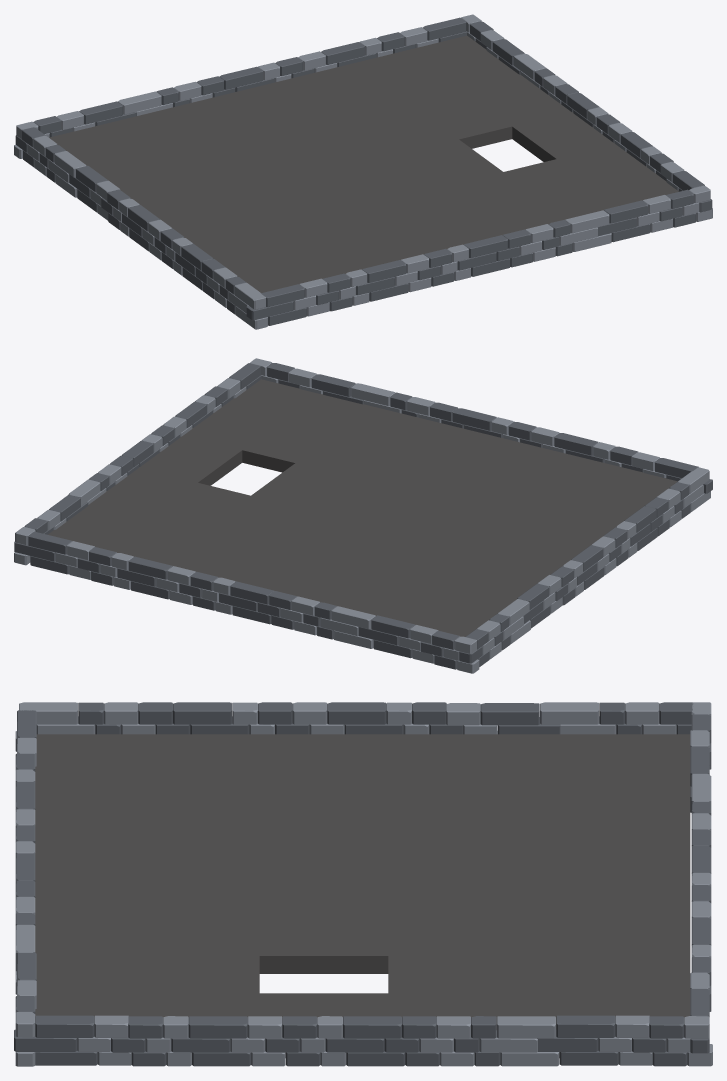
Rendered from L1Ground.fbx.
The picture shows the model from 3 angles, top to bottom: view 1: azimuth 30°, elevation 25°; view 2: azimuth 150°, elevation 25°; view 3: azimuth 270°, elevation 25°; orthographic projection. The views are drawn at different scales.
Visible parts, largest first — view 1: polySurface1107, polySurface1108; view 2: polySurface1107, polySurface1108; view 3: polySurface1107, polySurface1108.
Boxes of the visible parts, x1=… form: polySurface1107: x1=49, y1=35, x2=678, y2=292; polySurface1108: x1=14, y1=14, x2=712, y2=329; polySurface1107: x1=48, y1=379, x2=677, y2=636; polySurface1108: x1=14, y1=358, x2=712, y2=673; polySurface1107: x1=35, y1=734, x2=690, y2=1057; polySurface1108: x1=14, y1=702, x2=712, y2=1066.
Size of the model in its own units: 1623 by 96.95 by 1472.
